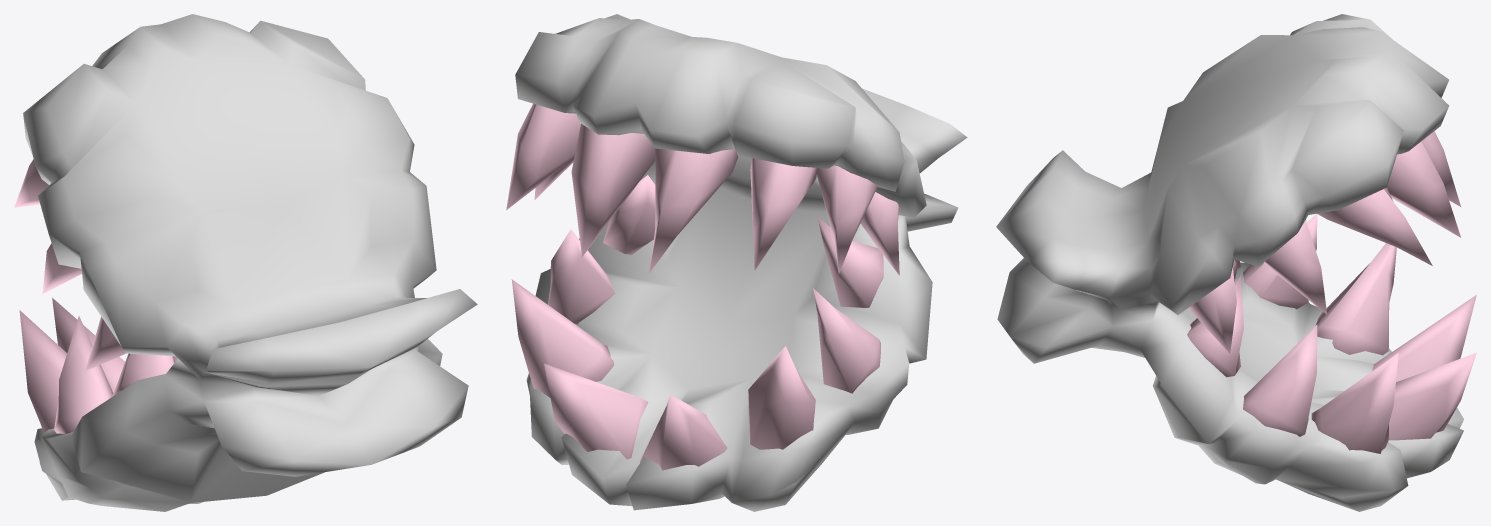
Rendered from Muscle_Chomper_FBX.fbx.
3 renders of one model, left to right at view 1: azimuth 30°, elevation 25°; view 2: azimuth 150°, elevation 25°; view 3: azimuth 270°, elevation 25°, orthographic. The views are drawn at different scales.
Parts seen in each view (by area): view 1: Chompyboi; view 2: Chompyboi; view 3: Chompyboi.
Part boxes in pixels (x1=…): Chompyboi: x1=14, y1=14, x2=477, y2=511; Chompyboi: x1=506, y1=14, x2=967, y2=511; Chompyboi: x1=996, y1=14, x2=1476, y2=511.
Bounding box in the file's own units: 591 × 703 × 709.
